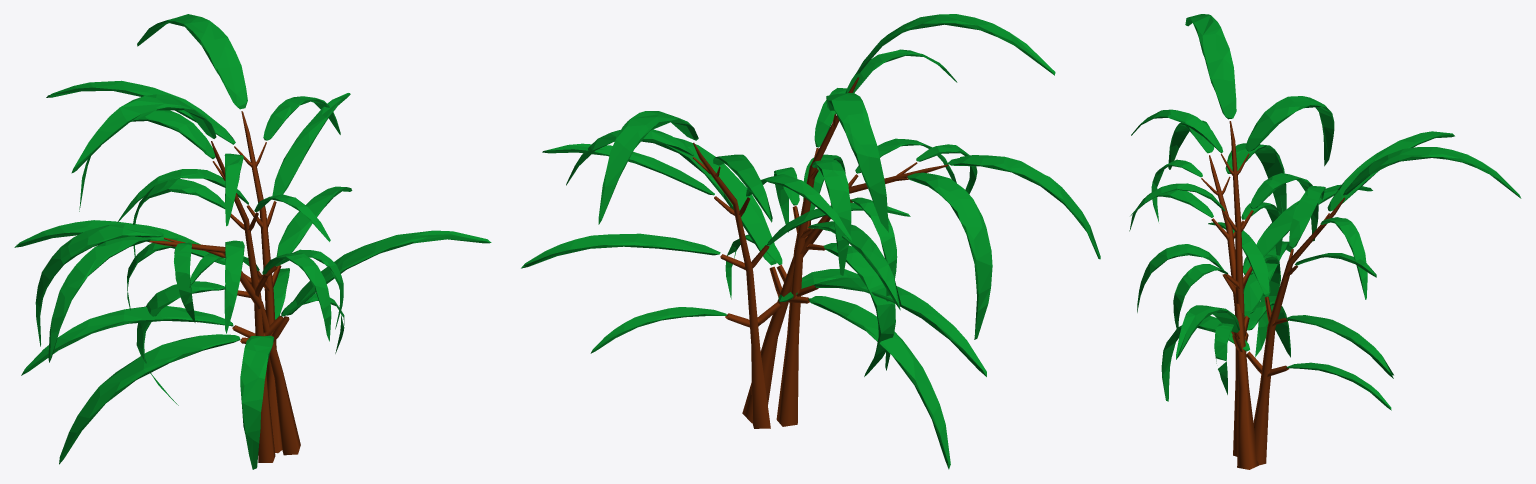
File: ShrubDraca01.fbx
3 renders of one model, left to right at view 1: azimuth 30°, elevation 25°; view 2: azimuth 150°, elevation 25°; view 3: azimuth 270°, elevation 25°, orthographic. The views are drawn at different scales.
Parts seen in each view (by area): view 1: ShrubDraca01_LOD0; view 2: ShrubDraca01_LOD0; view 3: ShrubDraca01_LOD0.
Part boxes in pixels (box(x1,y1,x2,y2)): ShrubDraca01_LOD0: box(14, 14, 491, 469); ShrubDraca01_LOD0: box(521, 14, 1100, 469); ShrubDraca01_LOD0: box(1129, 14, 1521, 469).
Size of what is drawn, in the model's own units: 118 by 103 by 98.86.
